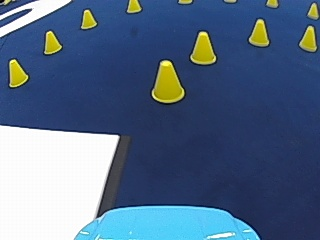cone: (150, 58, 185, 102), (188, 29, 216, 64), (247, 17, 270, 46), (7, 58, 28, 86), (298, 25, 317, 51), (42, 30, 61, 54), (80, 7, 97, 29), (306, 2, 319, 19), (126, 0, 141, 13), (266, 0, 277, 8)
